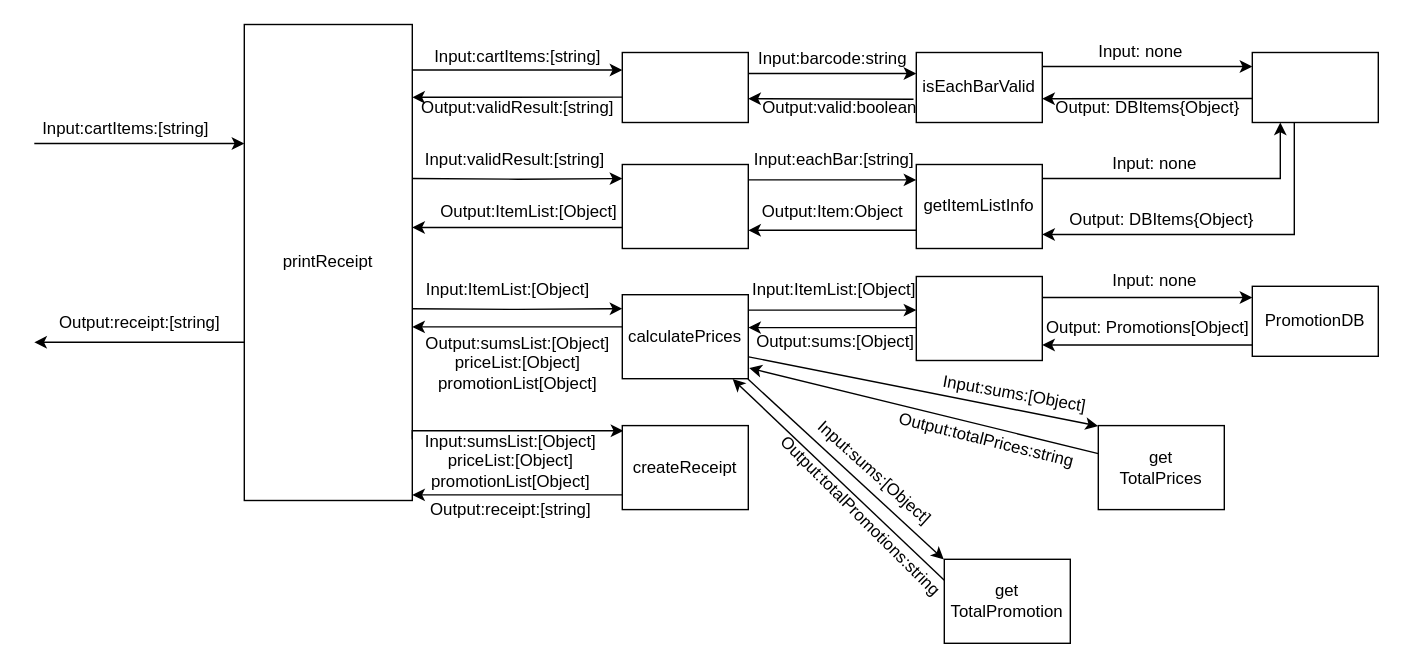
Image size: 1403x668. Some labels were removed from this diagram. The box of each missing label's shape, as (x1, y1, x2, y2) in pixels:
DBItems: (1251, 51, 1378, 122)
get sumItemsCost: (915, 275, 1042, 360)
getItemLists: (621, 163, 748, 248)
isCartItemsValid: (621, 51, 748, 122)
